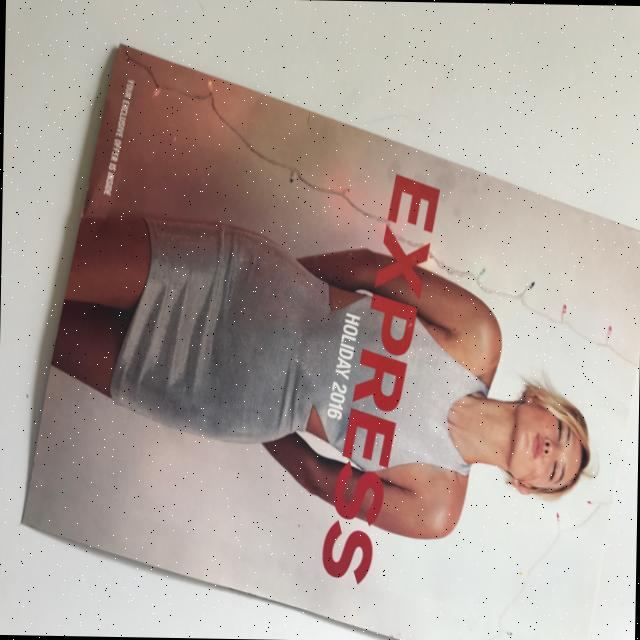paper: (17, 40, 640, 640)
